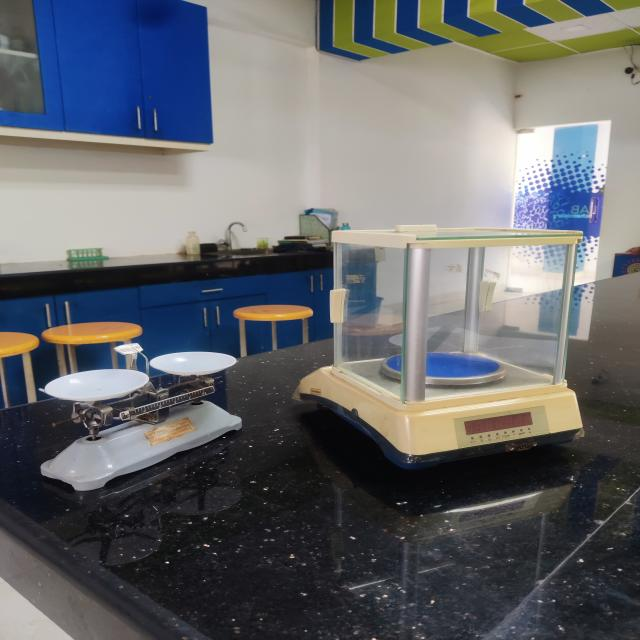Mechanical_Balance_Scale: (31, 340, 258, 494)
Precision_Weight_Scale: (286, 208, 604, 504)
